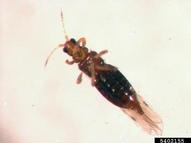Thrips: (42, 19, 166, 138)
